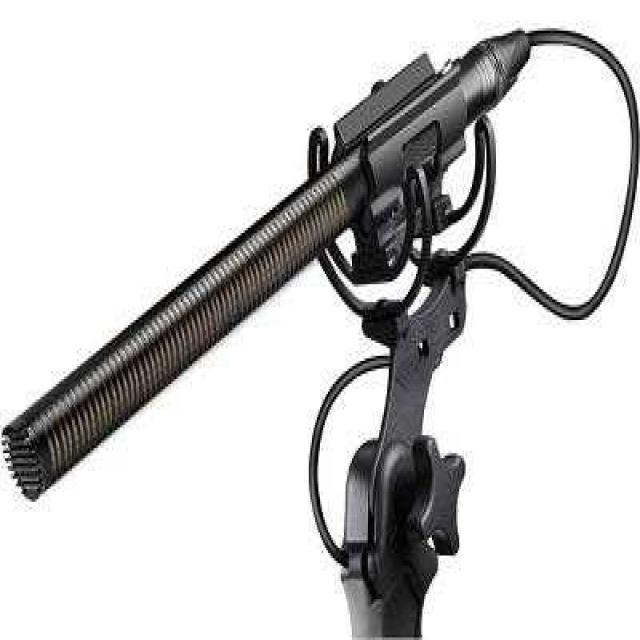microphone: (8, 29, 565, 500)
